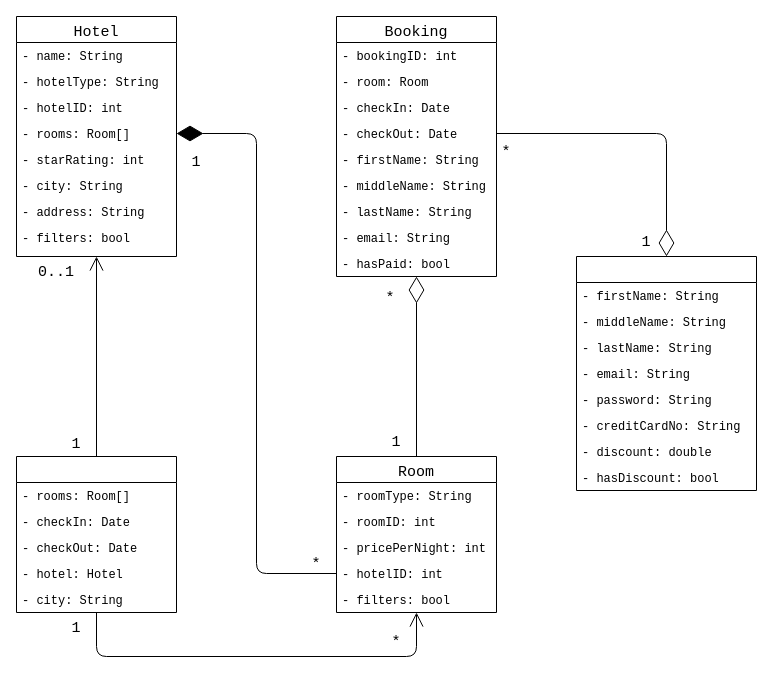
Some shapes in this 773 by 673 pixel diagram are drawn without their labels. The shapes that lost their labels are listed below. From the top down, each one's box as (x1, y1, x2, y2) in pixels, then its label:
(576, 256, 756, 490): User
(16, 456, 176, 612): Availability
